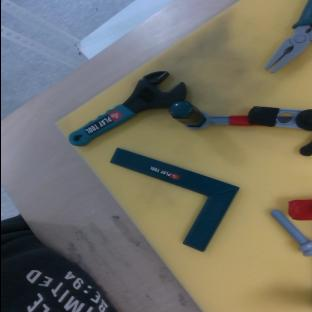pass: (287, 200, 311, 220)
